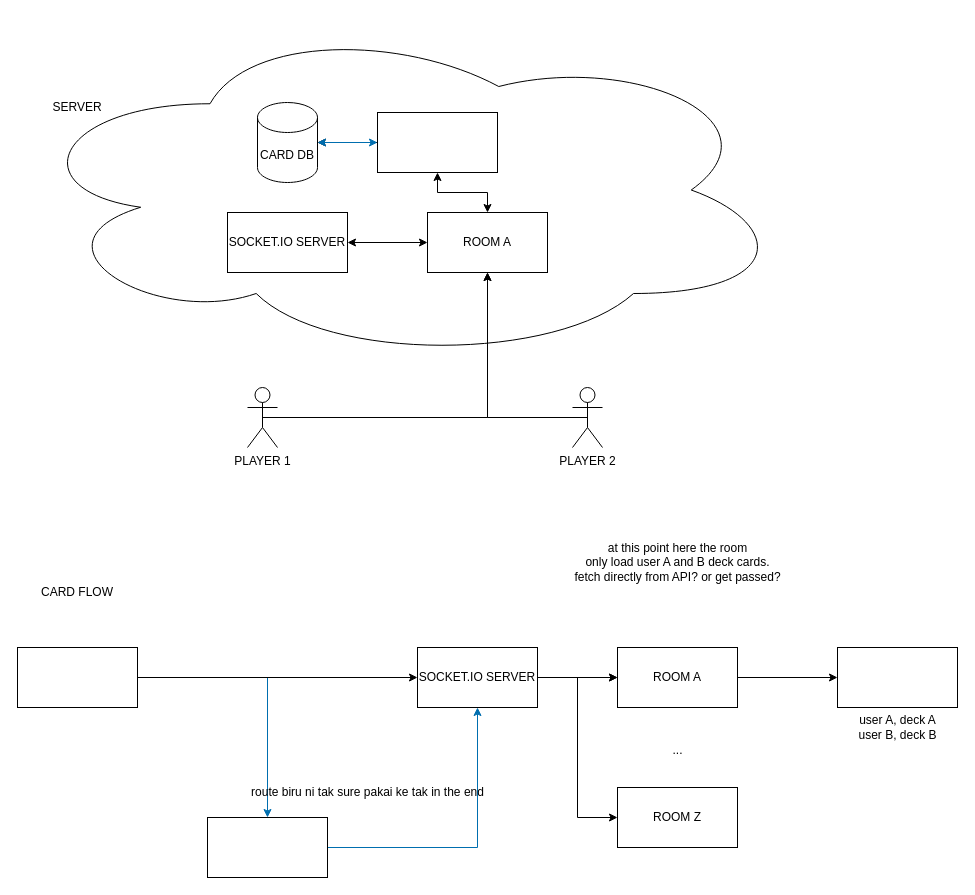
The diagram is 975 pixels wide and 895 high, and some of its shapes have lost their labels. Each missing label, with the centre of its shape:
"API" goes at [437,142].
"API SERVER" goes at [267,847].
"Board.vue" goes at [897,677].
"DATABASE" goes at [77,677].
